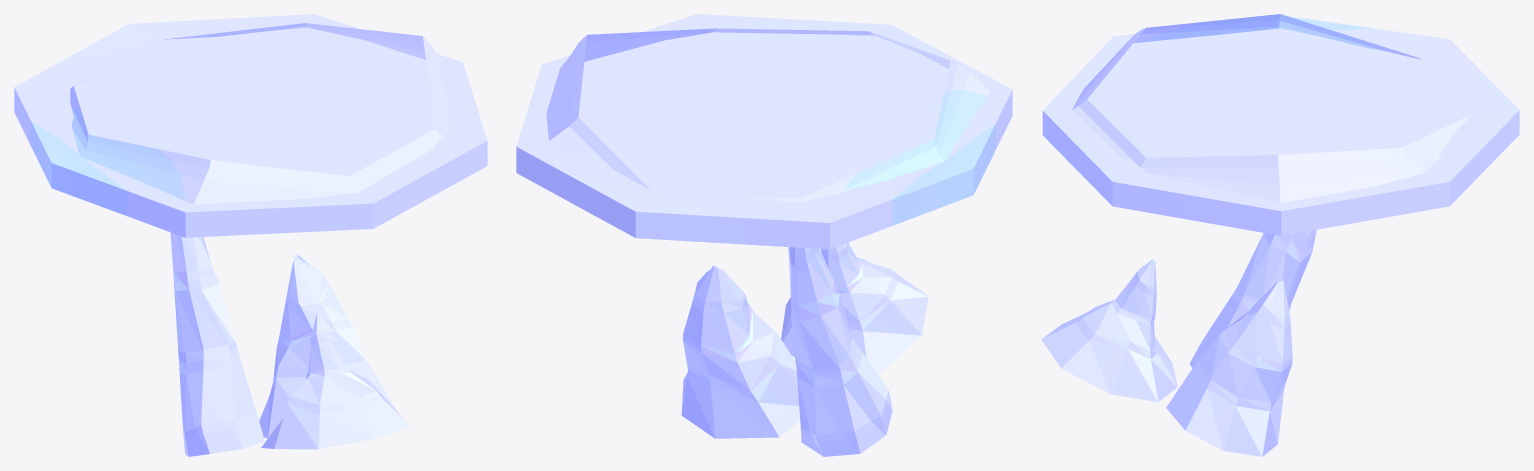
The model's file is petrify.glb.
3 views of the same model, side by side, from view 1: azimuth 30°, elevation 25°; view 2: azimuth 150°, elevation 25°; view 3: azimuth 270°, elevation 25° (orthographic). The views are drawn at different scales.
Parts seen in each view (by area): view 1: Cylinder.007, Cylinder.008, Cylinder.010, Cylinder.009; view 2: Cylinder.007, Cylinder.009, Cylinder.008, Cylinder.010; view 3: Cylinder.007, Cylinder.009, Cylinder.010, Cylinder.008.
Boxes of the visible parts, bbox=[...] form: Cylinder.007: bbox=[14, 14, 487, 237]; Cylinder.008: bbox=[170, 232, 264, 456]; Cylinder.010: bbox=[261, 314, 410, 449]; Cylinder.009: bbox=[259, 253, 395, 438]; Cylinder.007: bbox=[516, 14, 1012, 249]; Cylinder.009: bbox=[681, 265, 800, 438]; Cylinder.008: bbox=[788, 247, 892, 456]; Cylinder.010: bbox=[781, 242, 928, 374]; Cylinder.007: bbox=[1042, 14, 1519, 235]; Cylinder.009: bbox=[1166, 280, 1292, 456]; Cylinder.010: bbox=[1041, 259, 1177, 402]; Cylinder.008: bbox=[1189, 230, 1316, 367].
Size of the model in its own units: 1.95 by 1.62 by 2.02.
Materials: 1 (1 with a texture image).
